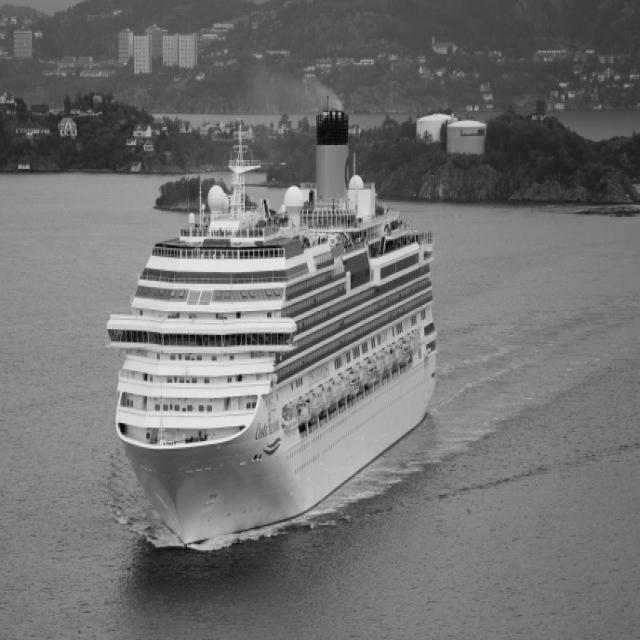cruises: (105, 107, 444, 553)
